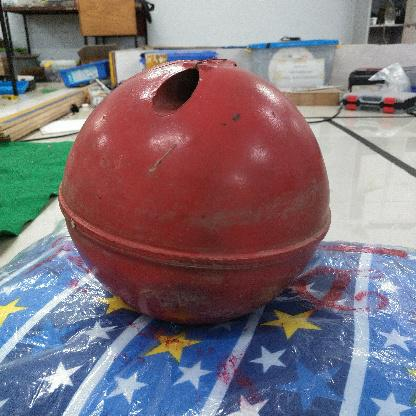red_buoy: (57, 57, 333, 330)
